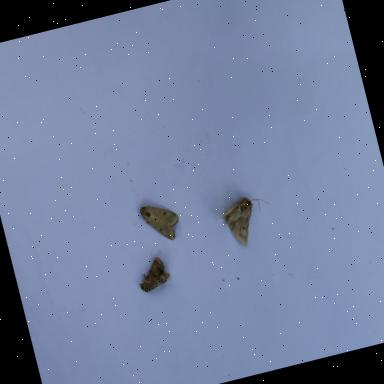abw: (216, 189, 279, 252), (133, 193, 185, 248), (130, 248, 178, 299)
